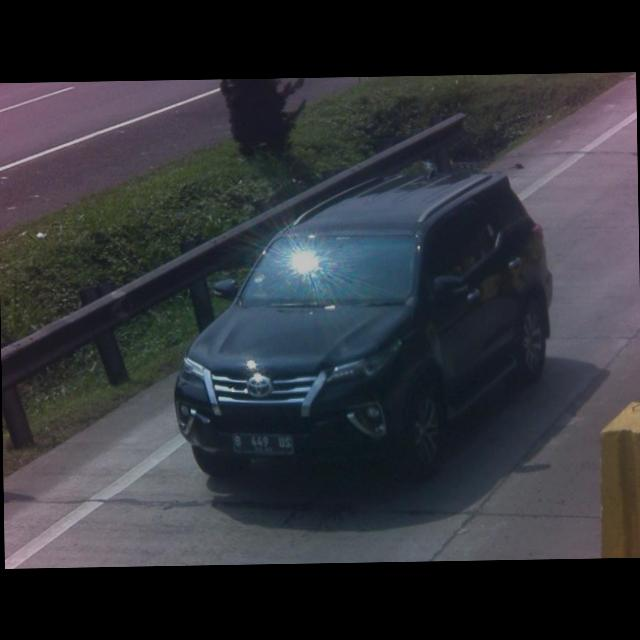plate: (230, 429, 294, 456)
